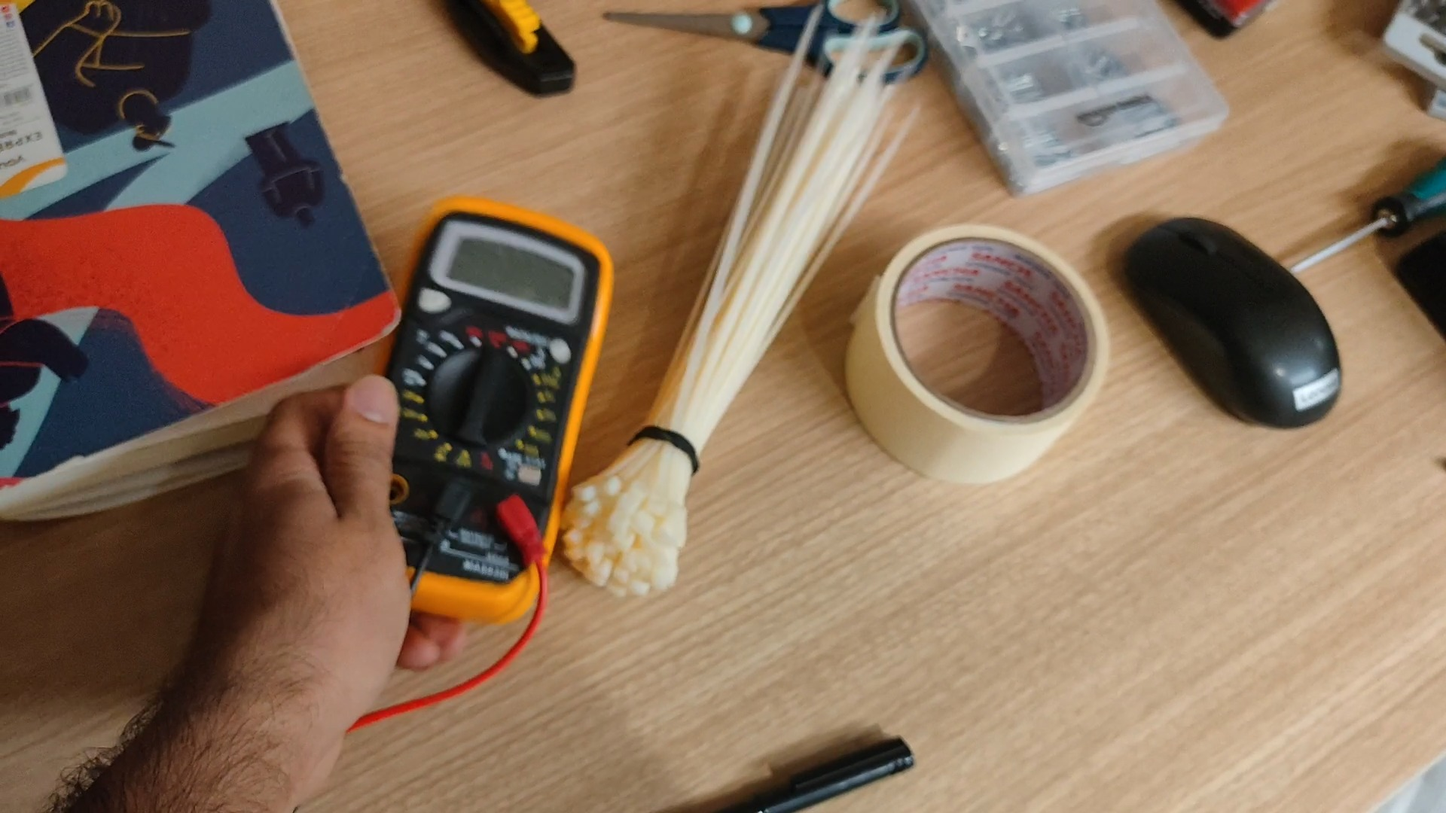multimeter: (384, 196, 612, 623)
